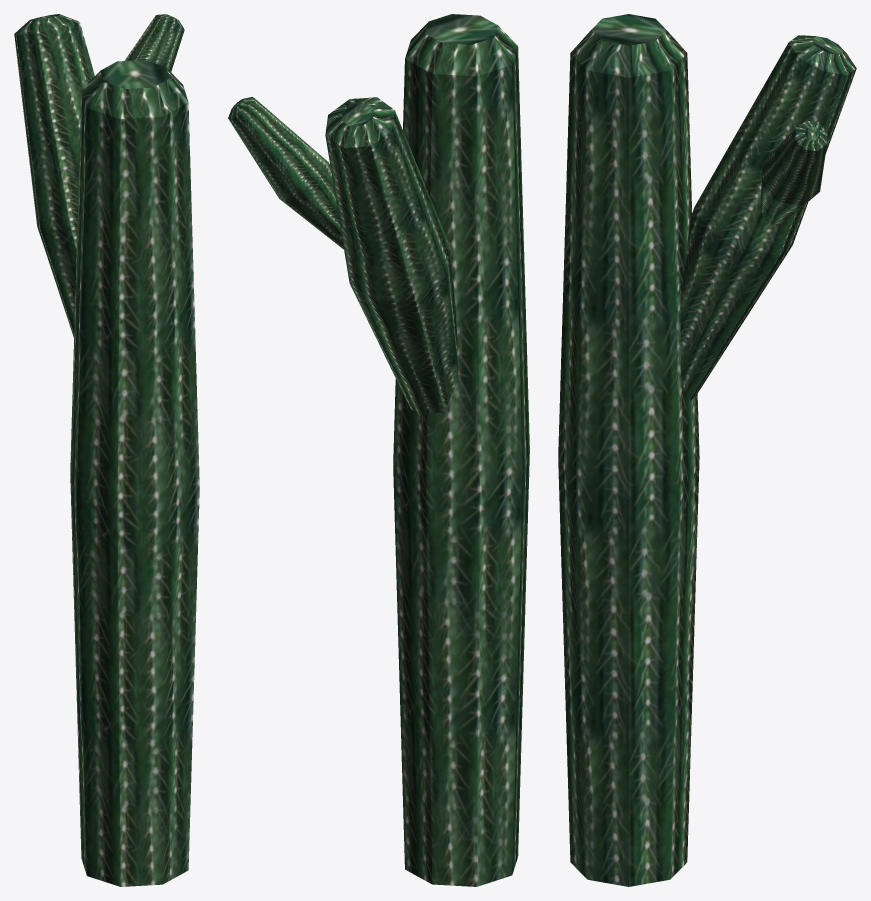
Rendered from cactus_7.fbx.
3 views of the same model, side by side, from view 1: azimuth 30°, elevation 25°; view 2: azimuth 150°, elevation 25°; view 3: azimuth 270°, elevation 25° (orthographic). The views are drawn at different scales.
Visible parts, largest first — view 1: Cylinder; view 2: Cylinder; view 3: Cylinder.
Boxes of the visible parts, x1,y1,x2,y2 form: Cylinder: (14, 14, 199, 886); Cylinder: (228, 14, 529, 886); Cylinder: (558, 14, 856, 886).
Size of the model in its own units: 160 by 632 by 206.
Materials: 1 (1 with a texture image).
